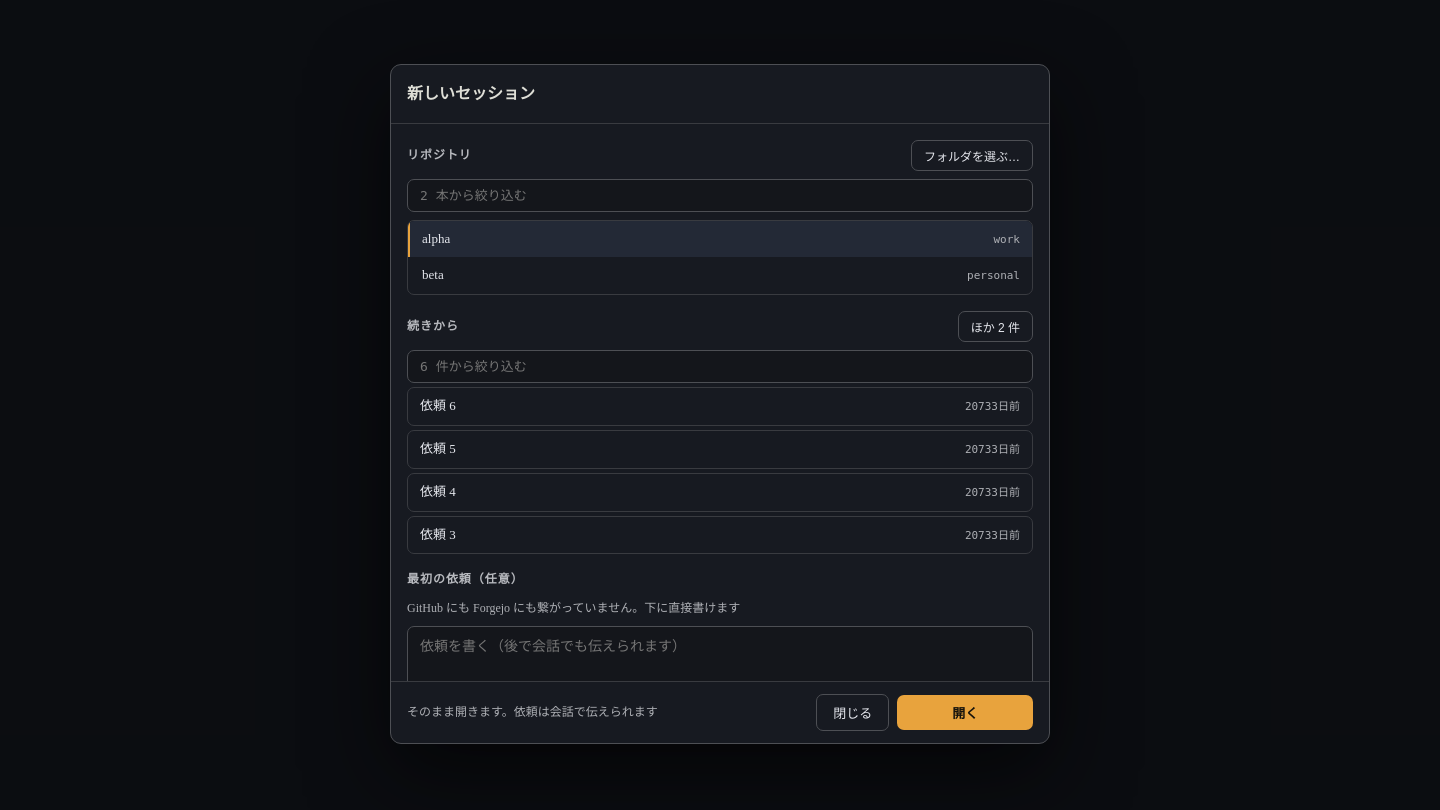
NewSession › 5 件を超えたら絞り込みの欄と「ほか n 件」が出る
The width and height of the screenshot is (1440, 810).
Check: the text "依頼 1" is not shown
Click the button "ほか 2 件" at x=995, y=327, box [958,311,1033,342]
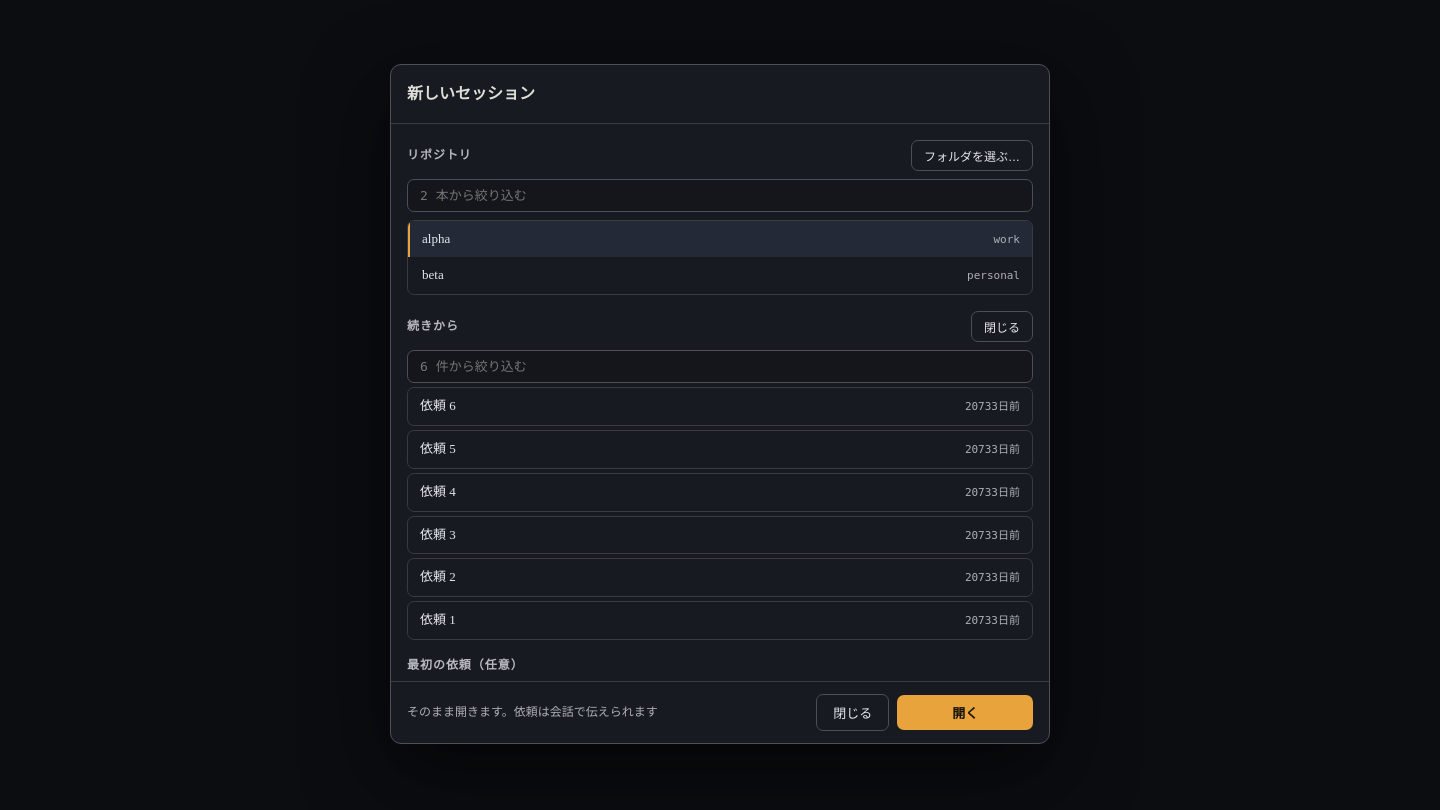
Check: the text "依頼 1" is shown, box [420,612,456,627]
Type "依頼 3" into the field with placeholder "6 件から絞り込む" at x=720, y=367, box [407,350,1033,383]
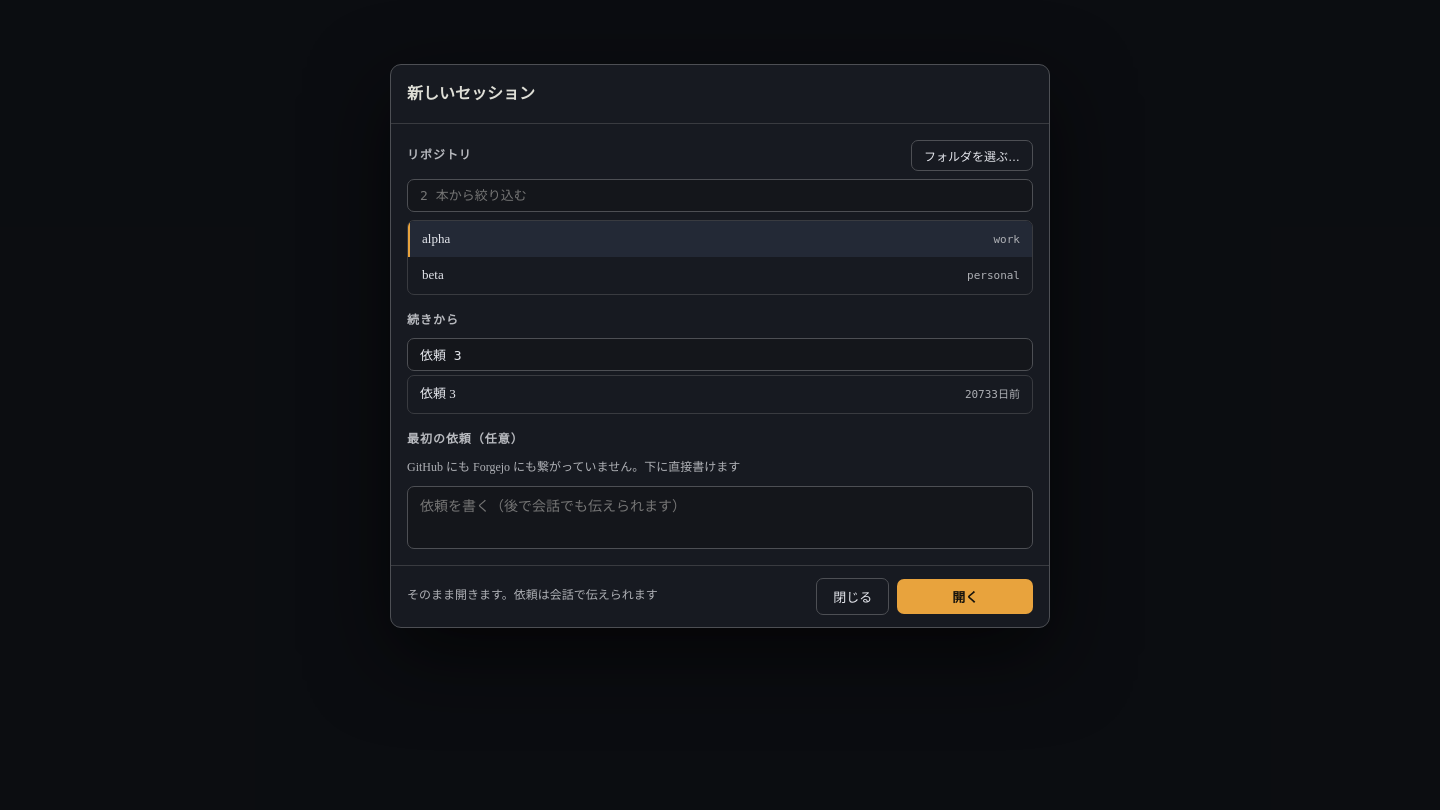
Check: the text "依頼 3" is shown, box [420,386,456,401]
Check: the text "依頼 4" is gone
